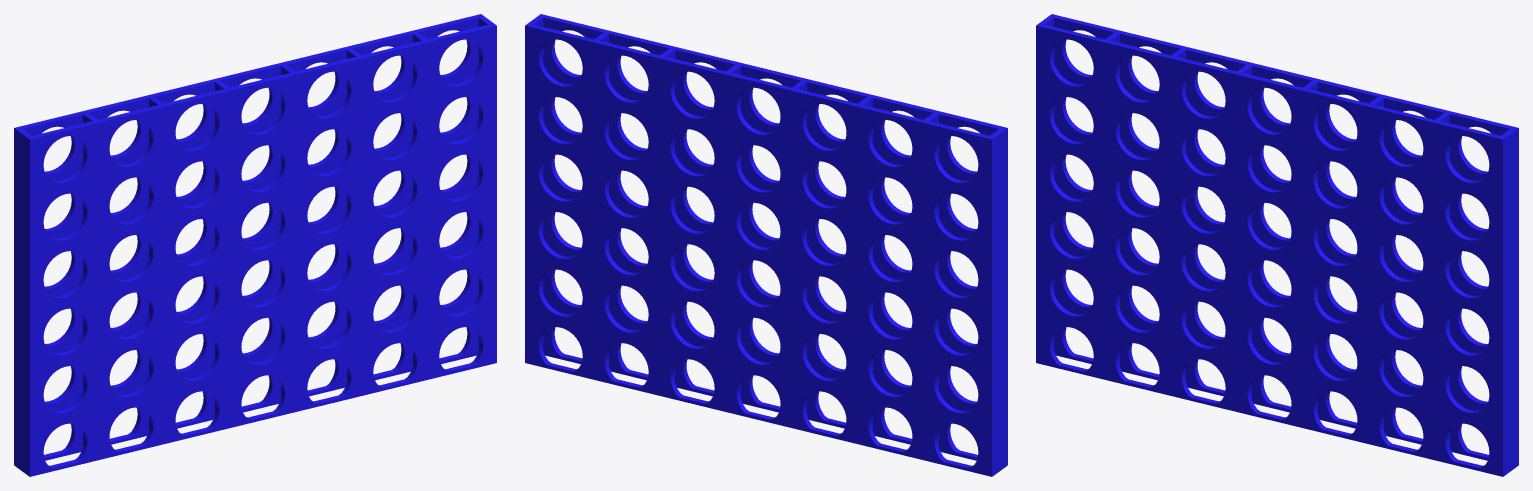
Rendered from connect_four_grid.fbx.
3 renders of one model, left to right at view 1: azimuth 30°, elevation 25°; view 2: azimuth 150°, elevation 25°; view 3: azimuth 330°, elevation 25°, orthographic.
Visible parts, largest first — view 1: Grid; view 2: Grid; view 3: Grid.
Part boxes in pixels (x1,y1,x2,y2): Grid: (14, 14, 496, 476); Grid: (525, 14, 1007, 476); Grid: (1036, 14, 1518, 476).
Size of what is drawn, in the model's own units: 850 by 587 by 50.
